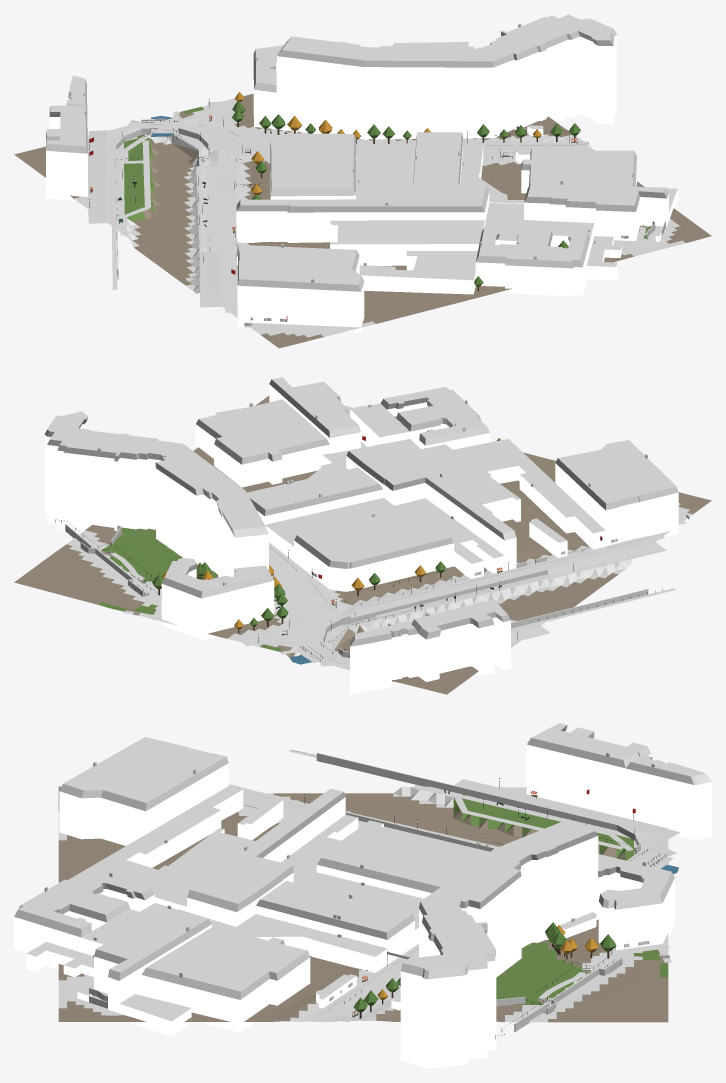
Rendered from zone_B7.glb.
3 views of the same model, one above another, from view 1: azimuth 30°, elevation 25°; view 2: azimuth 150°, elevation 25°; view 3: azimuth 270°, elevation 25° (orthographic). The views are drawn at different scales.
Parts seen in each view (by area): view 1: zone_B7_batiments, zone_B7_terrain, zone_B7_sol_NOCOL, zone_B7_decor_NOCOL; view 2: zone_B7_batiments, zone_B7_terrain, zone_B7_sol_NOCOL, zone_B7_decor_NOCOL; view 3: zone_B7_batiments, zone_B7_terrain, zone_B7_sol_NOCOL, zone_B7_decor_NOCOL.
Part boxes in pixels (left/top/right/bottom): zone_B7_batiments: left=46, top=14, right=677, bottom=332; zone_B7_terrain: left=14, top=93, right=711, bottom=348; zone_B7_sol_NOCOL: left=87, top=101, right=662, bottom=331; zone_B7_decor_NOCOL: left=88, top=92, right=580, bottom=291; zone_B7_batiments: left=44, top=377, right=678, bottom=694; zone_B7_terrain: left=14, top=395, right=711, bottom=694; zone_B7_sol_NOCOL: left=74, top=442, right=686, bottom=668; zone_B7_decor_NOCOL: left=55, top=416, right=662, bottom=657; zone_B7_batiments: left=14, top=723, right=711, bottom=1068; zone_B7_terrain: left=58, top=786, right=668, bottom=1022; zone_B7_sol_NOCOL: left=60, top=749, right=680, bottom=1022; zone_B7_decor_NOCOL: left=244, top=750, right=636, bottom=1038.
Size of what is drawn, in the model's own units: 261 by 39.8 by 244.
